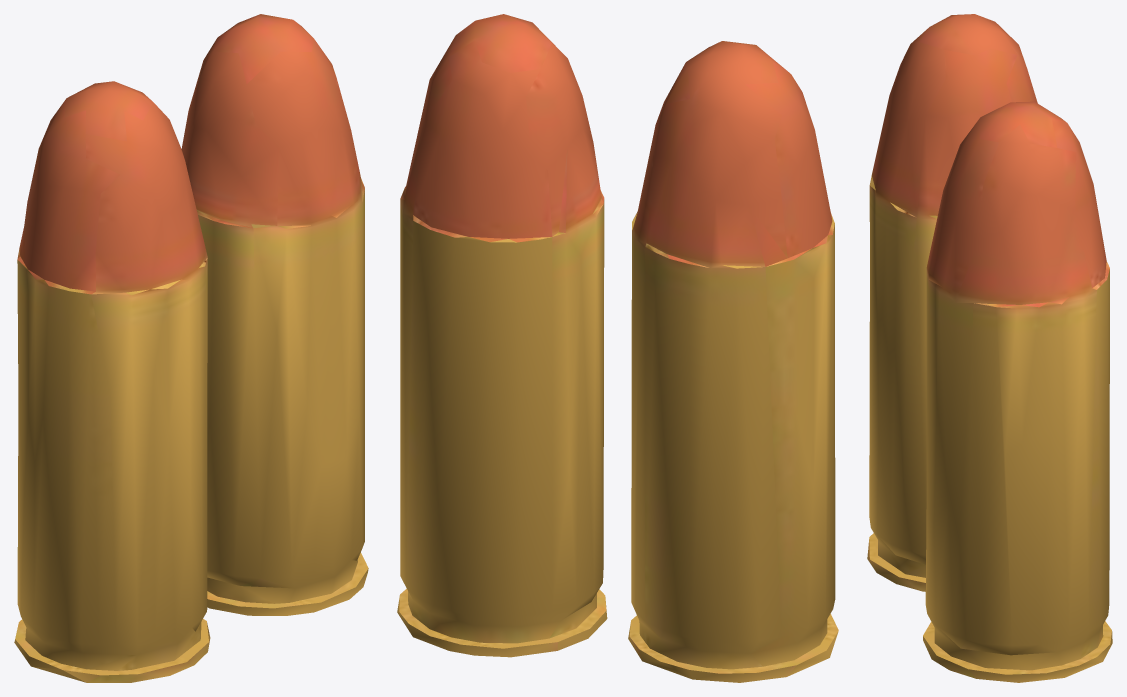
Rendered from ammo.glb.
3 renders of one model, left to right at view 1: azimuth 30°, elevation 25°; view 2: azimuth 150°, elevation 25°; view 3: azimuth 270°, elevation 25°, orthographic. The views are drawn at different scales.
Visible parts, largest first — view 1: ammo; view 2: ammo; view 3: ammo.
Boxes of the visible parts, box(x1,y1,x2,y2) form: ammo: box(14, 14, 368, 682); ammo: box(397, 14, 838, 682); ammo: box(867, 14, 1112, 682).
Size of the model in its own units: 0.0202 by 0.0301 by 0.0125.
Materials: 1 (1 with a texture image).
